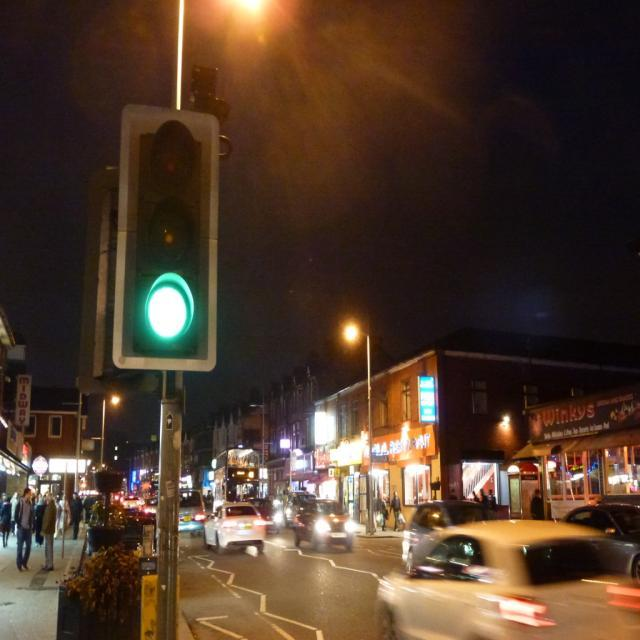traffic light: (119, 101, 215, 376)
